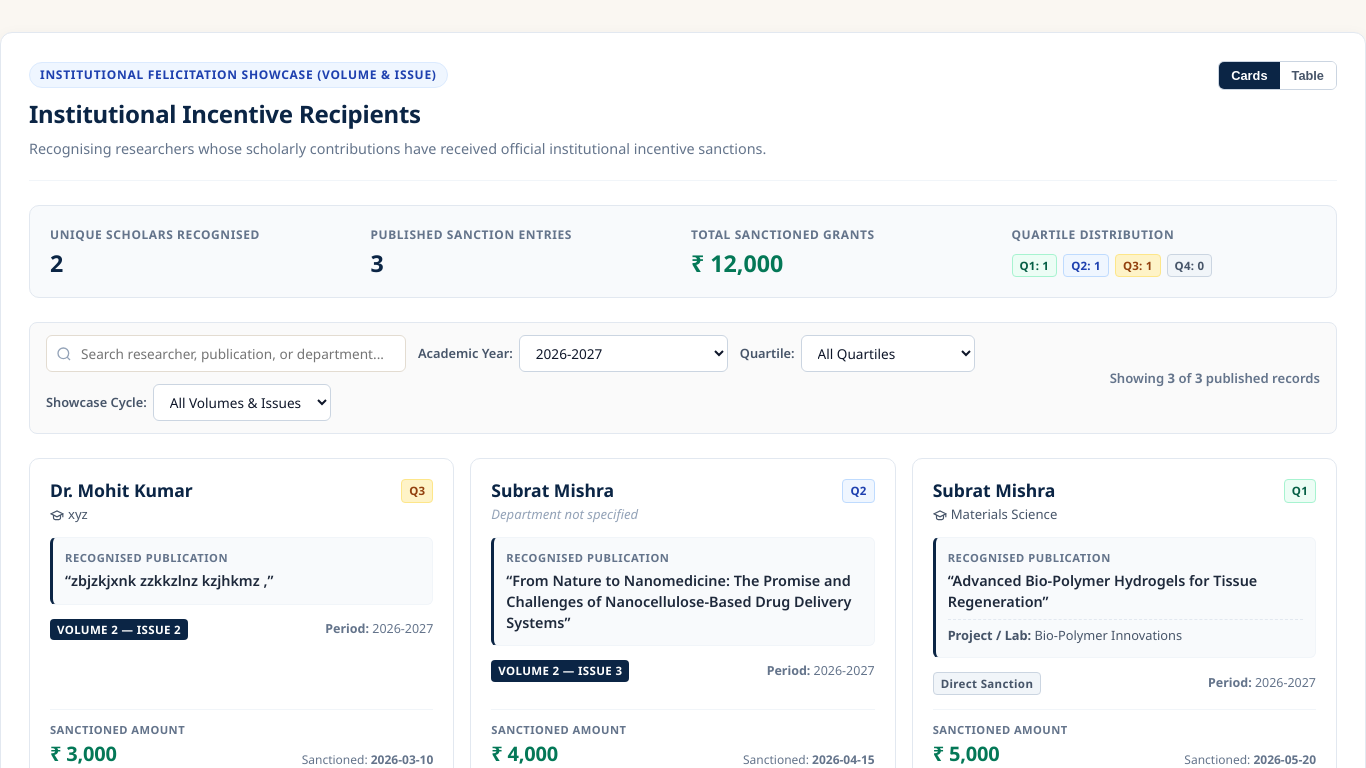
Test: InstitutionalIncentiveRecipients Component Tests › 4. Filters records dynamically by Quartile and updates summary metrics
The image size is (1366, 768).
// Filter to Q1 only (only 1 record: Subrat Mishra's second sanction)
Select "Q1 (Highest Impact)" in the dropdown named "Filter by Quartile" at coordinates (888, 354), box [800,336,974,372]
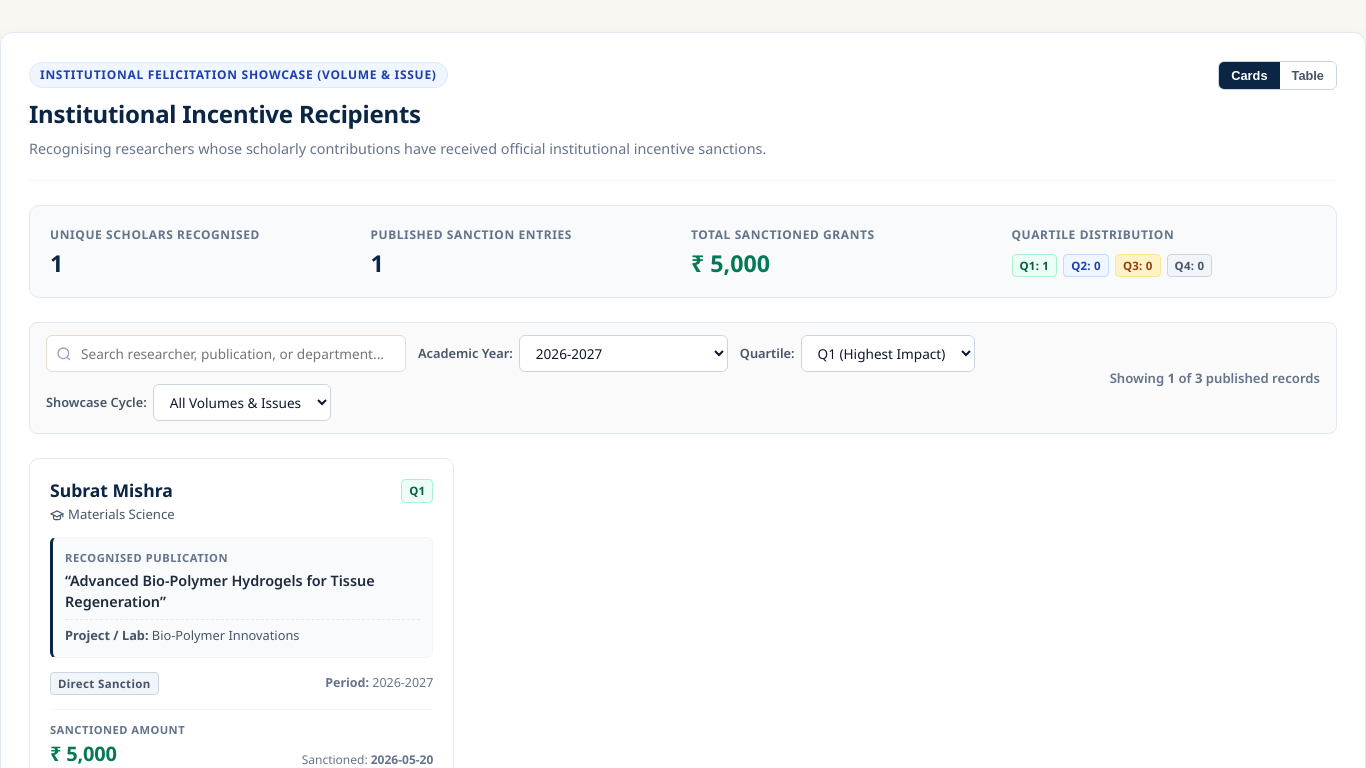
Expected: the text "Advanced Bio-Polymer Hydrogels for Tissue Regeneration" is shown, [65,571,375,611]
Expected: the heading "Dr. Mohit Kumar" is gone
Expected: the text "From Nature to Nanomedicine" is gone
